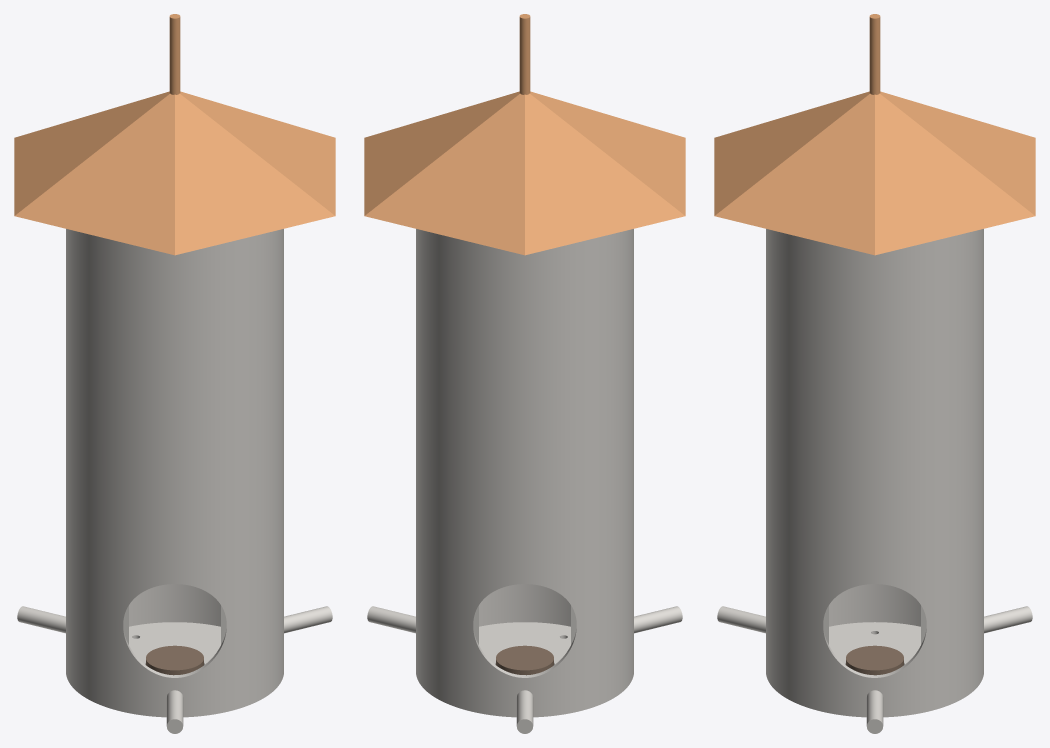
The model's file is australianHoneyeaters.gltf.
The picture shows the model from 3 angles, left to right: view 1: azimuth 30°, elevation 25°; view 2: azimuth 150°, elevation 25°; view 3: azimuth 270°, elevation 25°; orthographic projection.
Size of the model in its own units: 0.136 by 0.272 by 0.1178.
